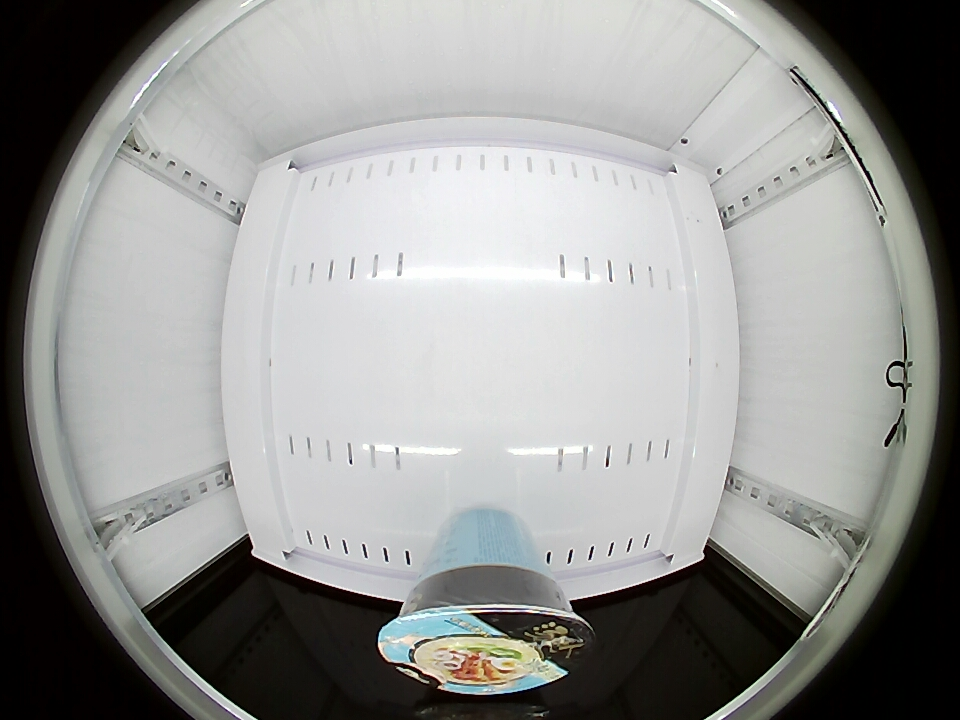tangdaren3: (378, 567, 593, 696)
